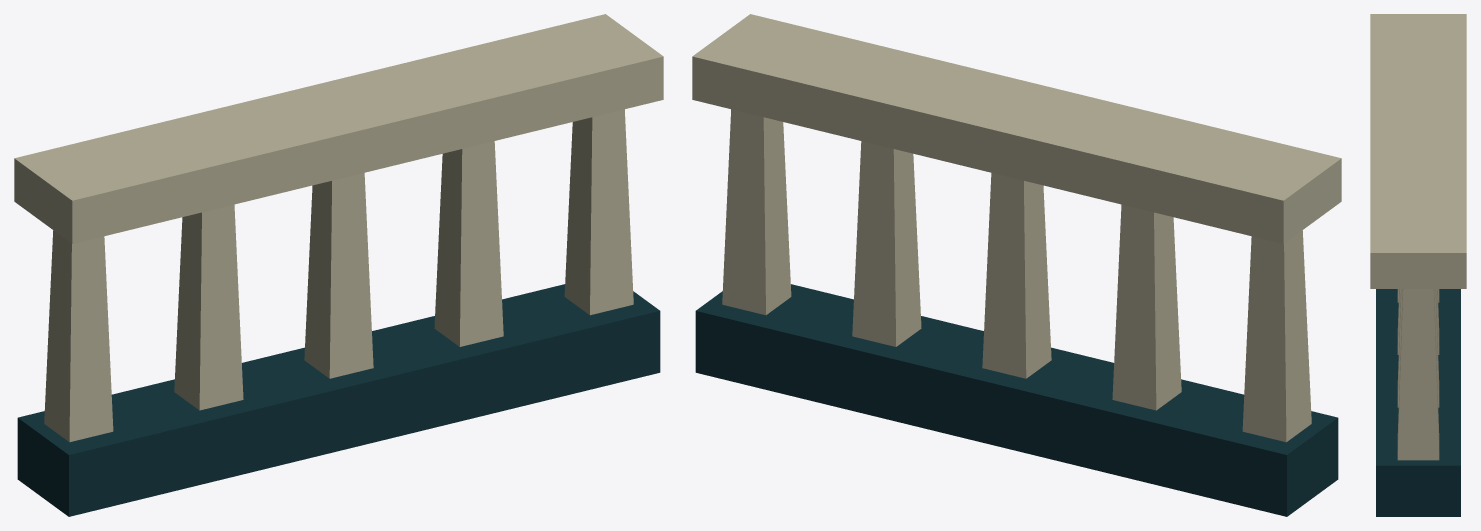
The model's file is WP_A21_balustrade_2m_v02.glb.
3 views of the same model, side by side, from view 1: azimuth 30°, elevation 25°; view 2: azimuth 150°, elevation 25°; view 3: azimuth 270°, elevation 25° (orthographic). The views are drawn at different scales.
Parts seen in each view (by area): view 1: Balustrade; view 2: Balustrade; view 3: Balustrade.
Part boxes in pixels (x1,y1,x2,y2): Balustrade: (14, 14, 663, 516); Balustrade: (692, 14, 1341, 516); Balustrade: (1370, 14, 1466, 516).
Size of the model in its own units: 2 by 1.03 by 0.34.
